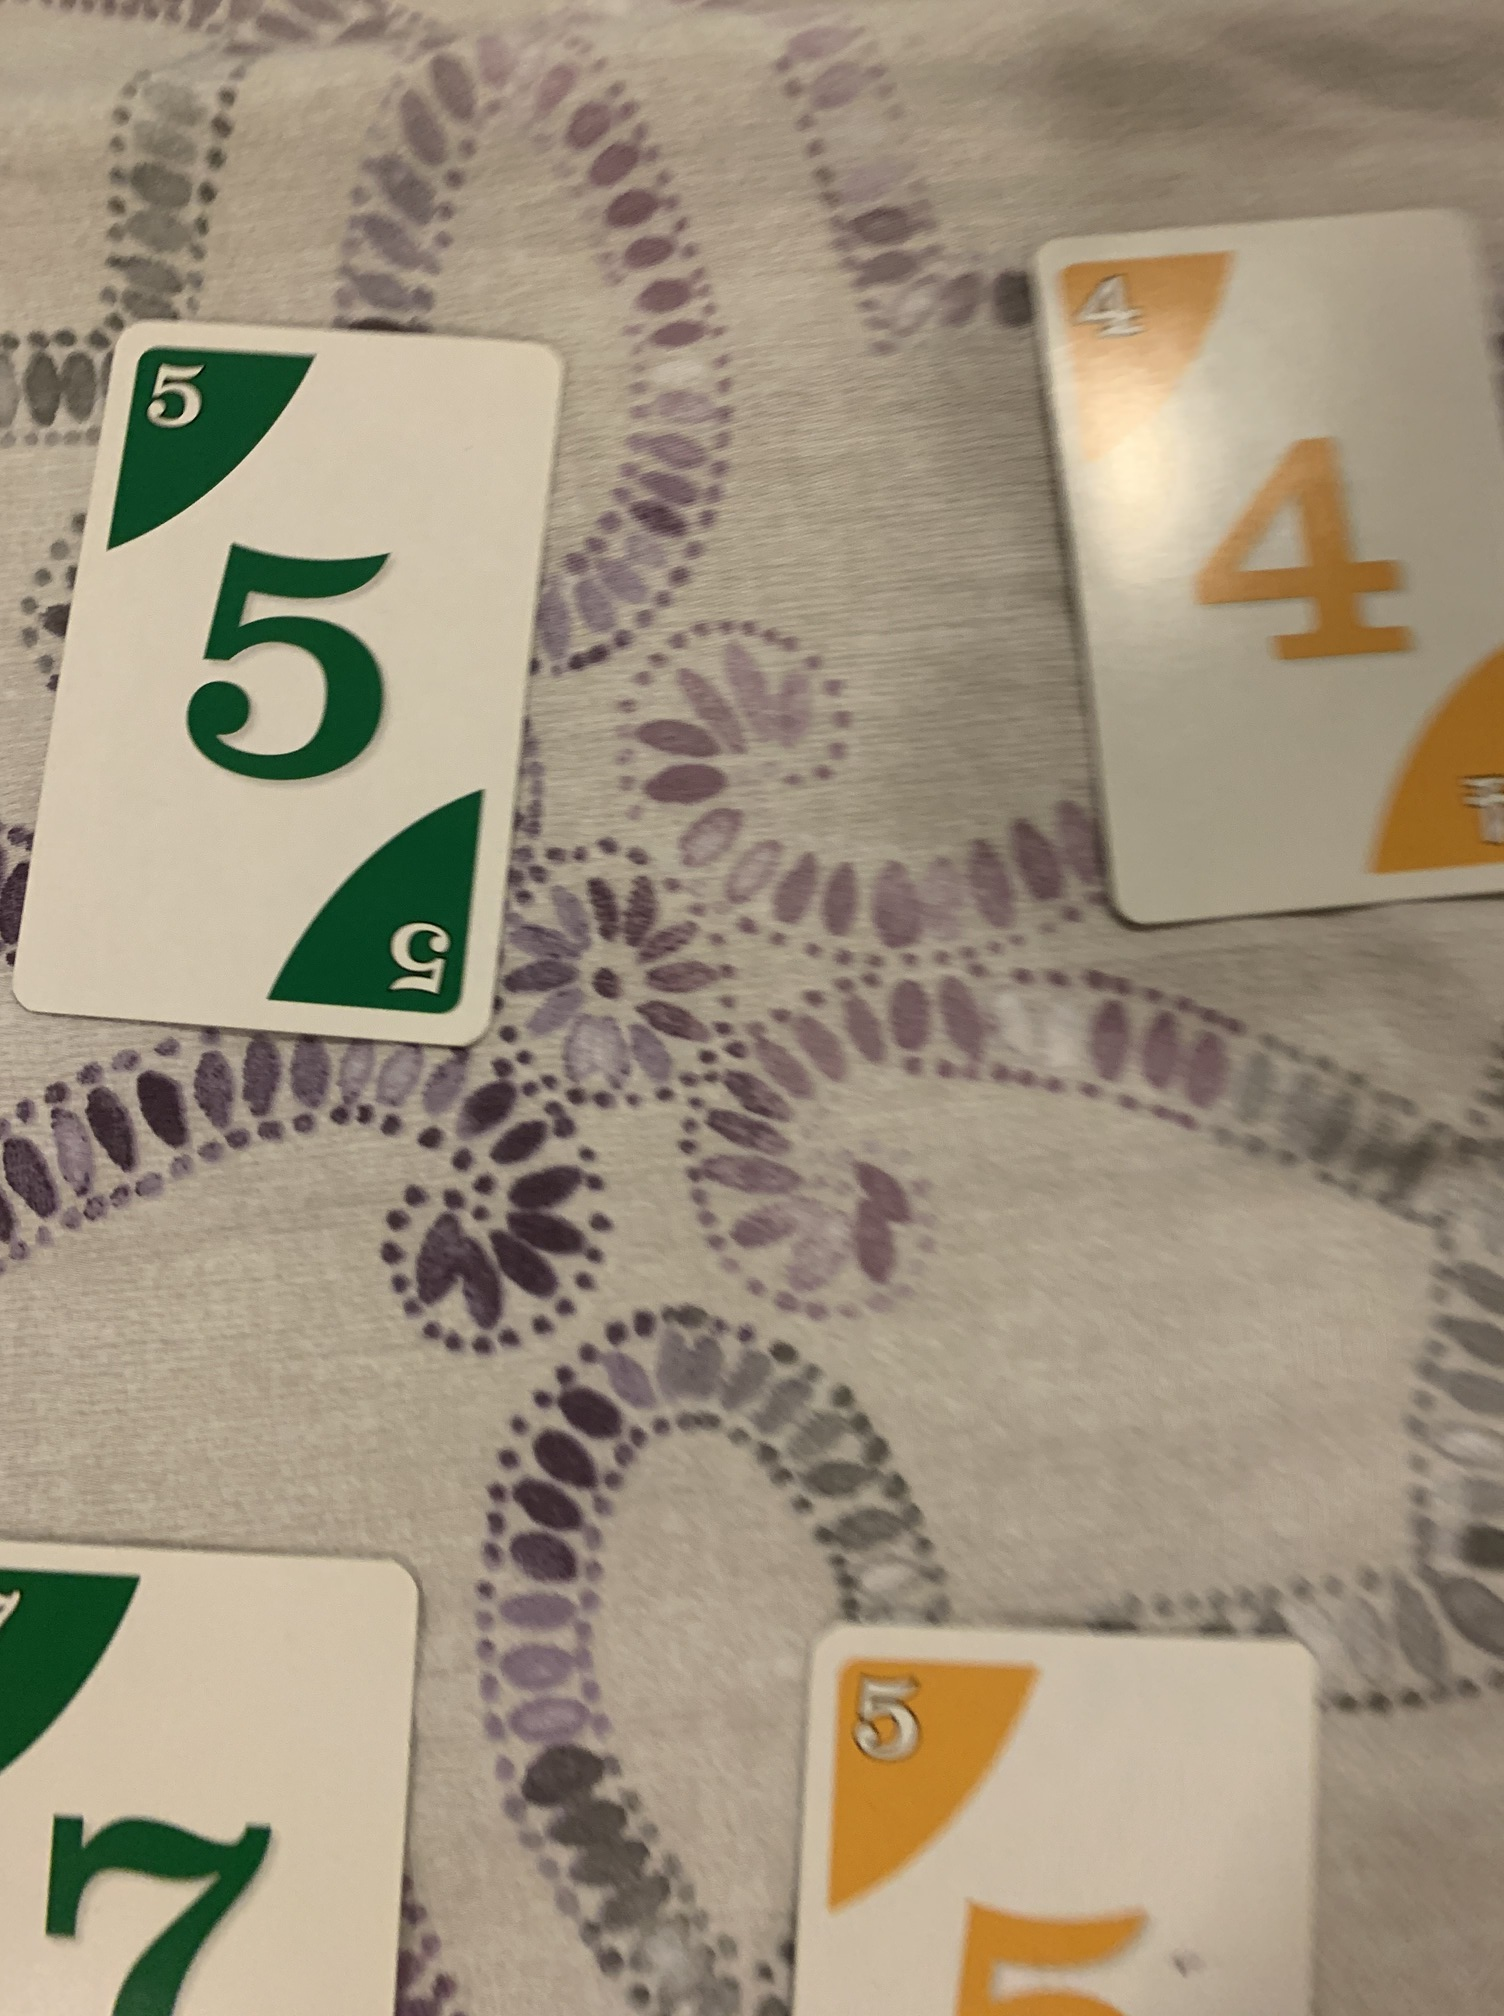five: (5, 321, 578, 1076), (780, 1616, 1337, 2016)
four: (1017, 193, 1504, 935)
seven: (2, 1556, 431, 2014)
